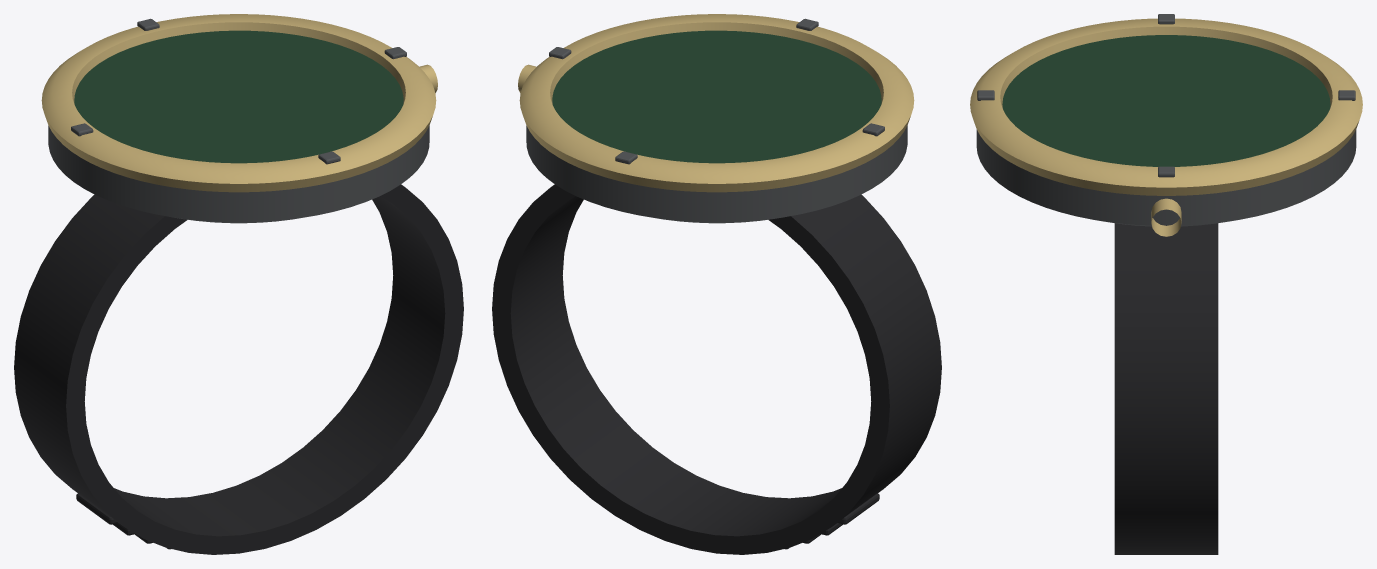
Rendered from compass.glb.
3 renders of one model, left to right at view 1: azimuth 30°, elevation 25°; view 2: azimuth 150°, elevation 25°; view 3: azimuth 270°, elevation 25°, orthographic.
Visible parts, largest first — view 1: compass_body, compass_face; view 2: compass_body, compass_face; view 3: compass_body, compass_face.
Boxes of the visible parts, x1=… form: compass_body: x1=14, y1=14, x2=463, y2=554; compass_face: x1=74, y1=30, x2=403, y2=163; compass_body: x1=492, y1=14, x2=941, y2=554; compass_face: x1=552, y1=30, x2=881, y2=163; compass_body: x1=970, y1=14, x2=1362, y2=554; compass_face: x1=1002, y1=35, x2=1330, y2=166.
Size of the model in its own units: 0.106 by 0.1122 by 0.091.
